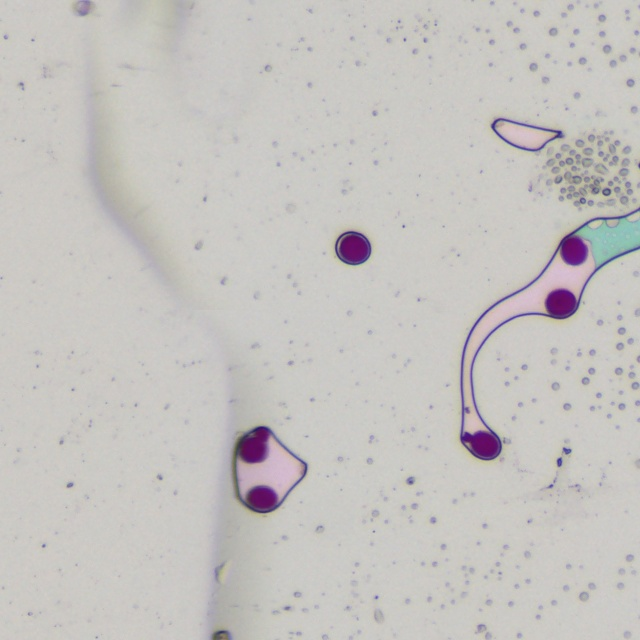viable: (234, 482, 285, 513), (334, 230, 373, 265), (542, 286, 581, 321), (458, 430, 501, 461)
